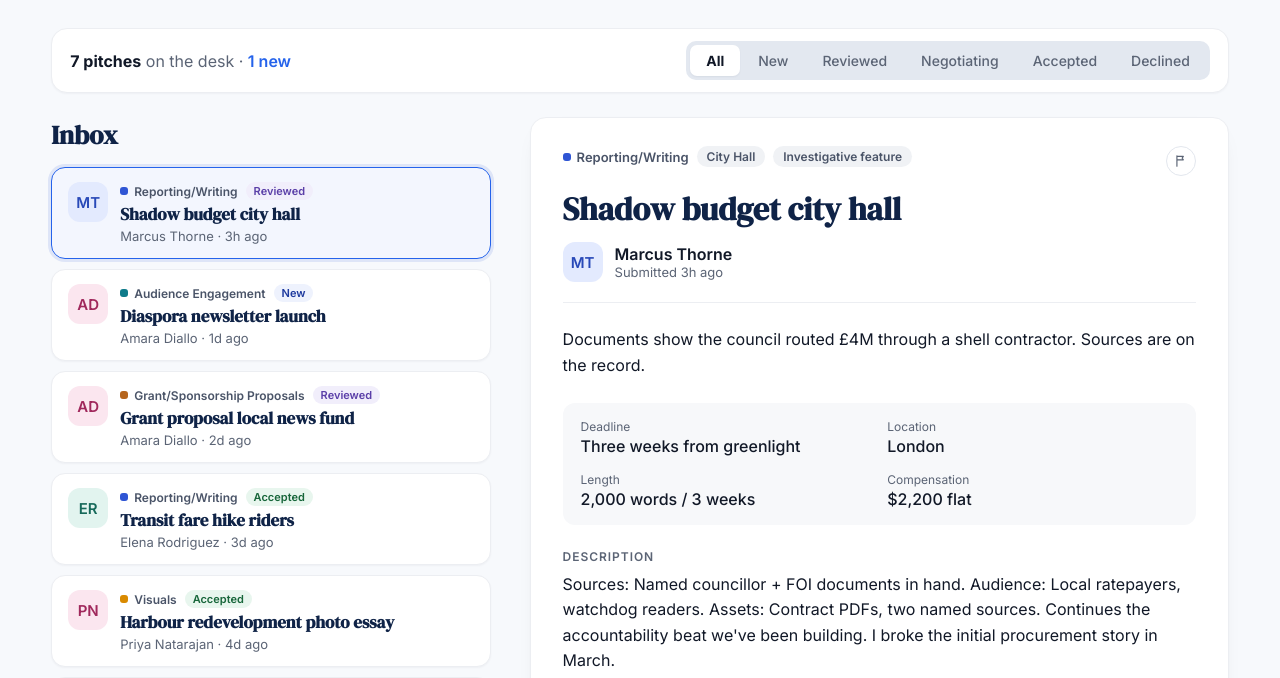
it: PitchInbox › says so when a tab has no pitches
Expected: the 1st text "Reviewed" is shown, [246, 182, 313, 200]
Click the button "Negotiating" at (960, 60), box [905, 45, 1015, 76]
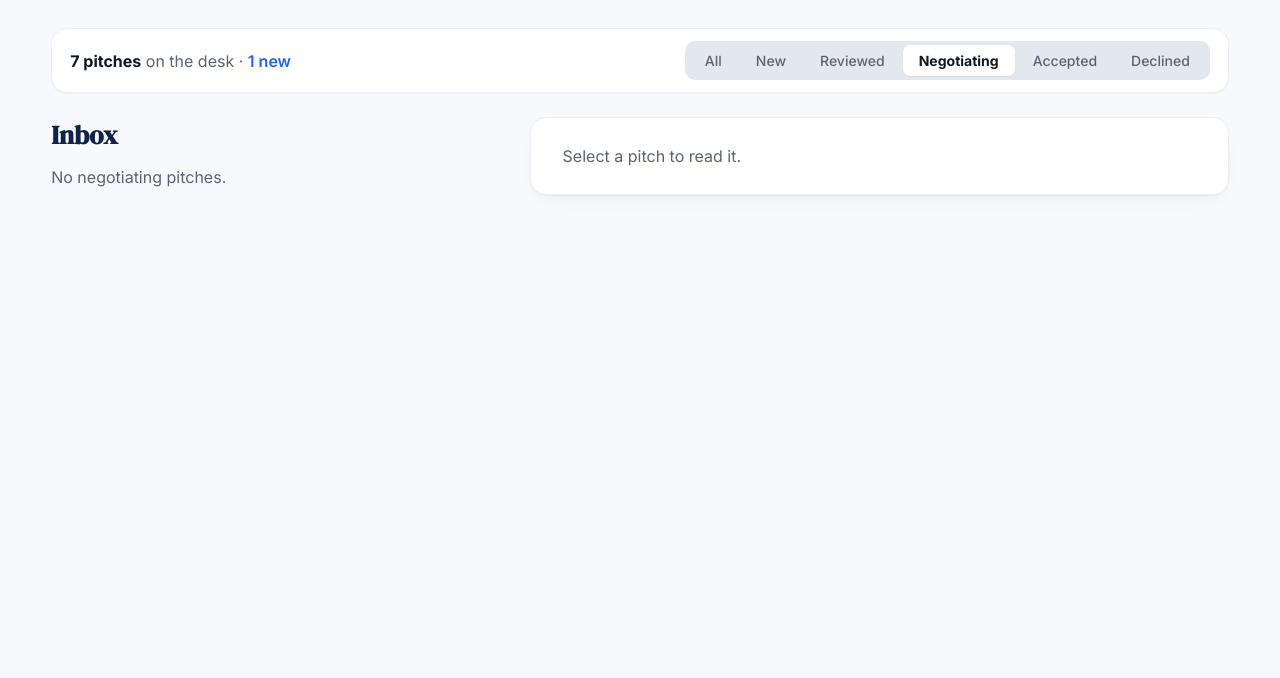
Expected: the text "No negotiating pitches." is shown, [51, 167, 226, 187]
